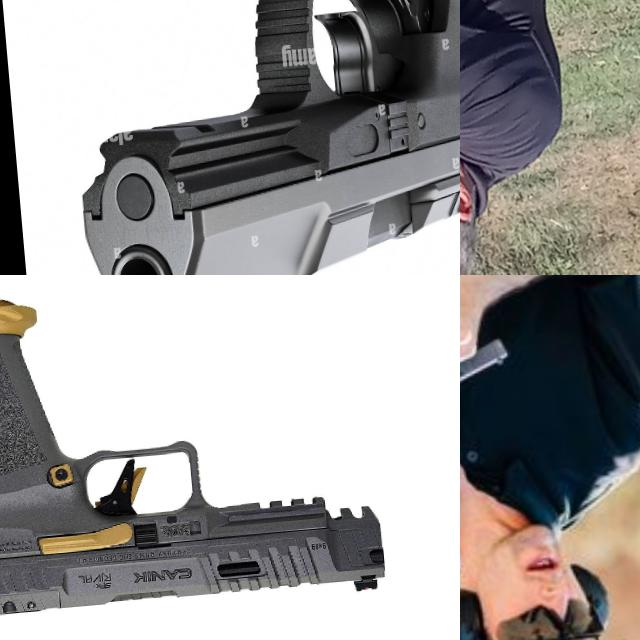handgun: (0, 275, 392, 637), (41, 0, 460, 275), (460, 332, 563, 449), (460, 136, 527, 215)
